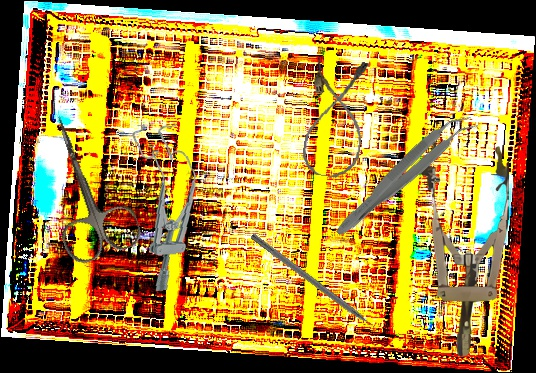Cannula: (300, 55, 372, 181)
Hook Surgical: (249, 232, 389, 341)
Iris Scissors: (24, 103, 145, 268)
Speculum: (418, 139, 510, 357), (131, 121, 204, 292)
Tissue Forceps: (329, 104, 480, 247)
